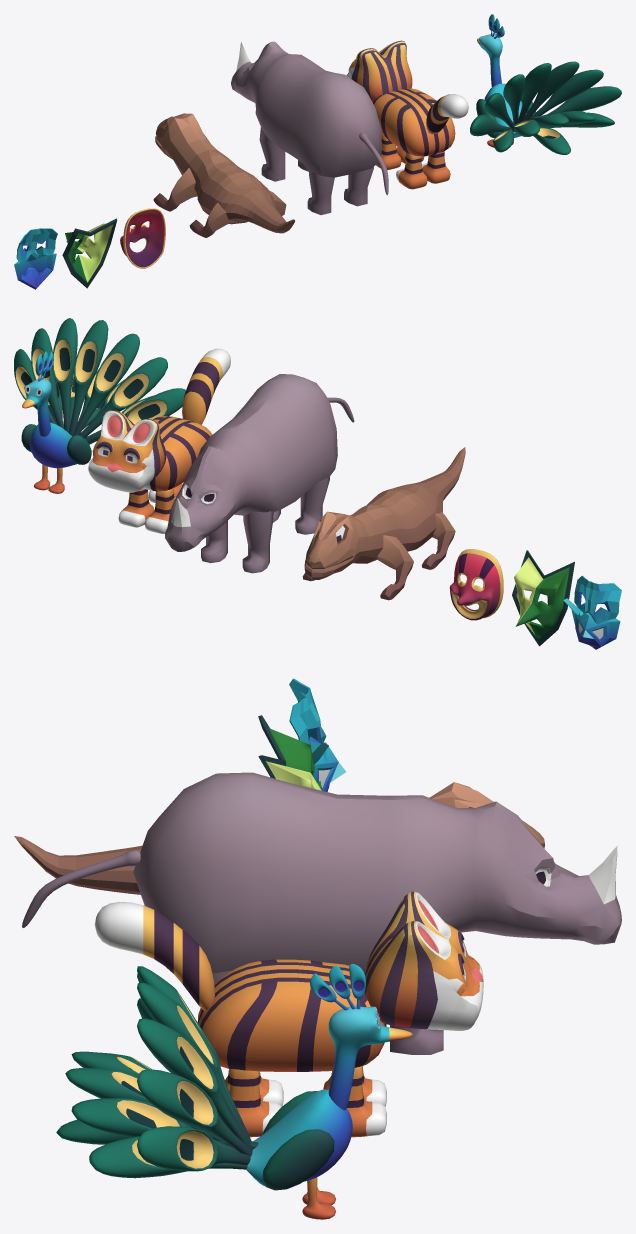
The model's file is Animal Ama topeng.fbx.
The picture shows the model from 3 angles, top to bottom: view 1: azimuth 30°, elevation 25°; view 2: azimuth 150°, elevation 25°; view 3: azimuth 270°, elevation 25°; orthographic projection. The views are drawn at different scales.
Visible parts, largest first — view 1: Rhino, Merak, Tiger, Komodo, Mask 2, Mask 1, Mask 3; view 2: Rhino, Merak, Tiger, Komodo, Mask 2, Mask 1, Mask 3; view 3: Rhino, Merak, Tiger, Komodo, Mask 3, Mask 2.
Part boxes in pixels (box(x1,y1,x2,y2)): Rhino: box(231, 41, 388, 214); Merak: box(470, 14, 621, 154); Tiger: box(346, 40, 468, 189); Komodo: box(153, 113, 294, 237); Mask 2: box(62, 218, 117, 288); Mask 1: box(120, 208, 165, 268); Mask 3: box(14, 228, 57, 289); Rhino: box(165, 374, 354, 573); Merak: box(14, 318, 185, 493); Tiger: box(88, 348, 230, 533); Komodo: box(302, 447, 465, 600); Mask 2: box(512, 550, 574, 646); Mask 1: box(449, 549, 503, 620); Mask 3: box(563, 575, 621, 649); Rhino: box(22, 772, 621, 1054); Merak: box(56, 964, 413, 1219); Tiger: box(94, 891, 483, 1137); Komodo: box(14, 782, 544, 894); Mask 3: box(289, 678, 345, 791); Mask 2: box(258, 715, 321, 790).
Bounding box in the file's own units: 2397 × 667 × 1122.
1 material, 1 textured.
